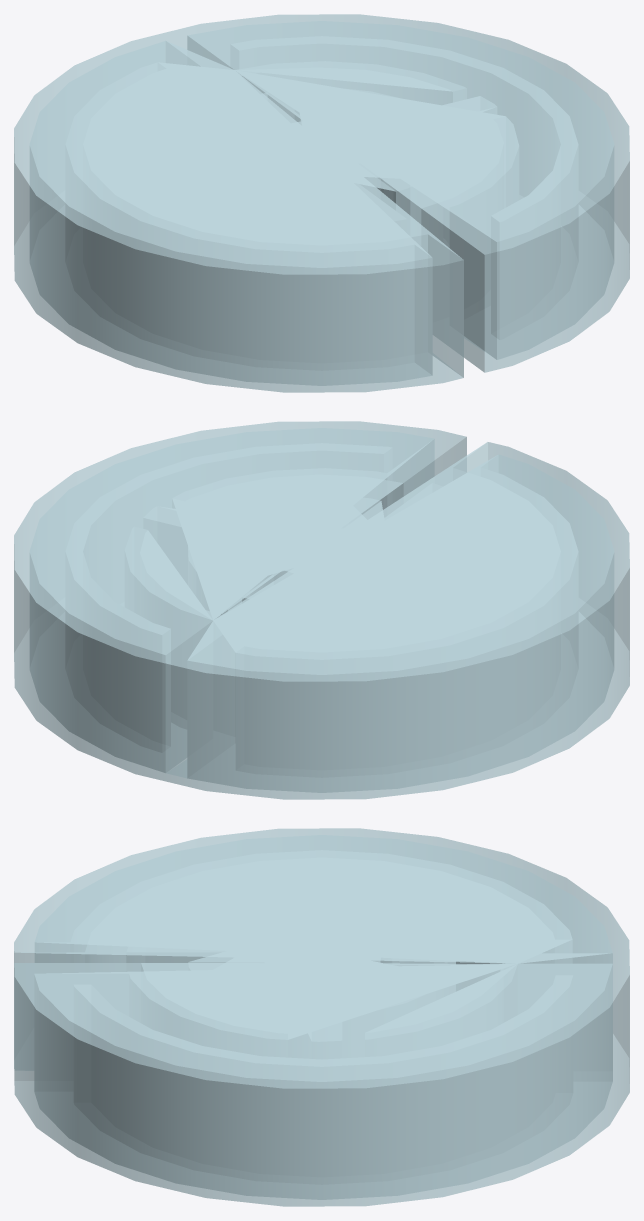
Rendered from Laberinto_fino.fbx.
3 views of the same model, one above another, from view 1: azimuth 30°, elevation 25°; view 2: azimuth 150°, elevation 25°; view 3: azimuth 270°, elevation 25° (orthographic).
Parts seen in each view (by area): view 1: Model; view 2: Model; view 3: Model.
Part boxes in pixels (x1,y1,x2,y2): Model: (14,14,629,392); Model: (14,421,629,799); Model: (14,828,629,1206).
Bounding box in the file's own units: 3314 × 700 × 3314.
